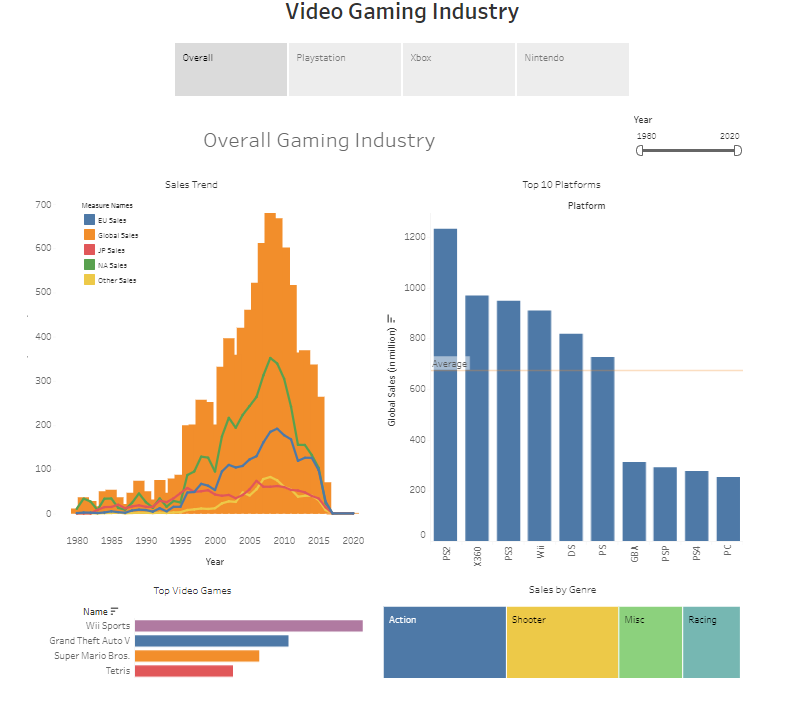

The dashboard page shown, as its layout file describes it:
{"tool":"tableau","page":{"name":"Overall - db","canvas":[1000,1200],"ordinal":1},"visuals":[{"type":"text","box":[8,8,830.2,78.9]},{"type":"filter","title":"Gaming Industry Sales Trend -o","param":"[federated.1suk3yt01tofc416ttgwf1c6x0rv].[none:Year:qk]","box":[838.2,8,153.8,78.9]},{"type":"worksheet","title":"Gaming Industry Sales Trend -o","mark":"Automatic","rows":["Global_Sales"],"cols":["Year"],"box":[8,86.9,492,540.9]},{"type":"worksheet","title":"Top 10 plafrom -o","mark":"Bar","rows":["Global_Sales"],"cols":["Platform"],"box":[500,86.9,492,540.6]},{"type":"legend","title":"Gaming Industry Sales Trend -o","param":"[federated.1suk3yt01tofc416ttgwf1c6x0rv].[:Measure Names]","box":[105.8,130,116.7,151]},{"type":"worksheet","title":"Sales by Genre -o","mark":"Automatic","box":[500,627.5,492,564.5]},{"type":"worksheet","title":"Top Video Games - o","mark":"Automatic","rows":["Name"],"cols":["Global_Sales"],"box":[8,627.8,492,564.2]},{"type":"legend","title":"Top Video Games - o","param":"[federated.1suk3yt01tofc416ttgwf1c6x0rv].[none:Genre:nk]","box":[355,824,184,269]}]}

Visuals, with their boxes on the page's 1000x1200 design canvas (x1, y1, x2, y2). These are canvas units, not pixel positions in the 787x702 screenshot, which may show the page scaled, cropped or inside an application window:
text: Rect(8, 8, 838, 87)
"Gaming Industry Sales Trend -o" filter: Rect(838, 8, 992, 87)
"Gaming Industry Sales Trend -o" worksheet: Rect(8, 87, 500, 628)
"Top 10 plafrom -o" worksheet (Bar marks): Rect(500, 87, 992, 628)
"Gaming Industry Sales Trend -o" legend: Rect(106, 130, 222, 281)
"Sales by Genre -o" worksheet: Rect(500, 628, 992, 1192)
"Top Video Games - o" worksheet: Rect(8, 628, 500, 1192)
"Top Video Games - o" legend: Rect(355, 824, 539, 1093)
